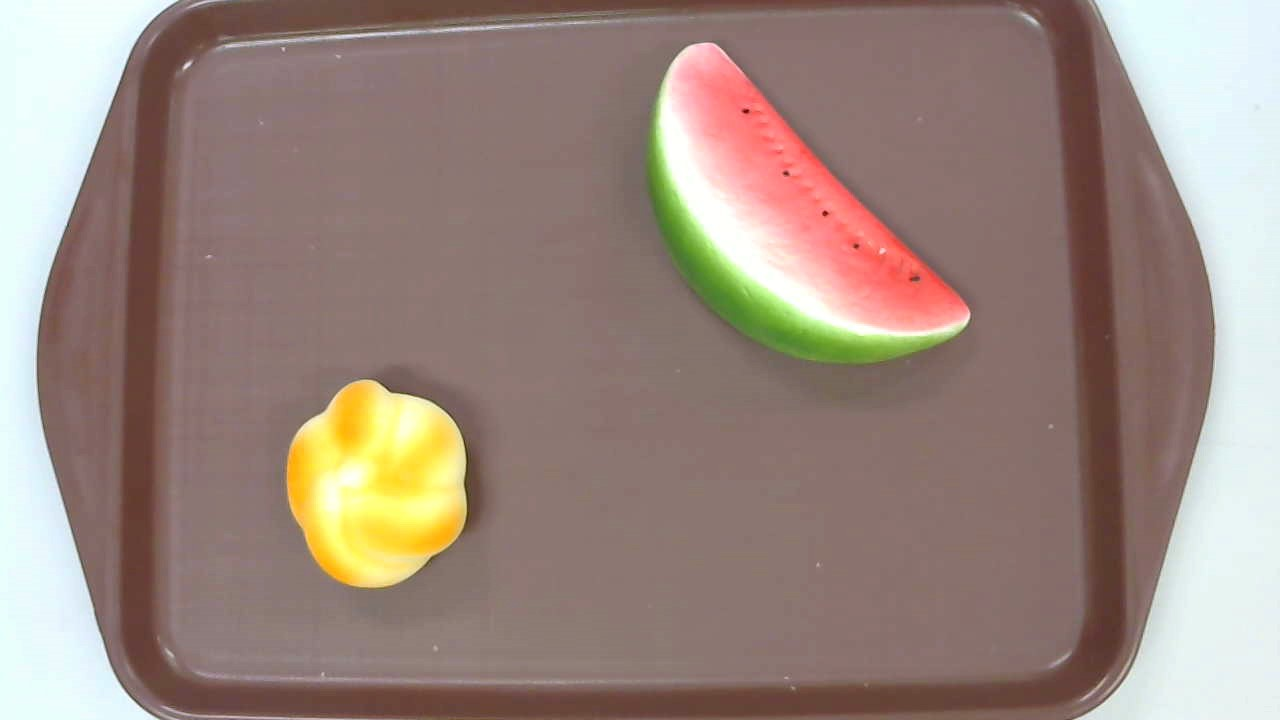twist bread: (287, 378, 467, 589)
water melon: (647, 41, 971, 365)
